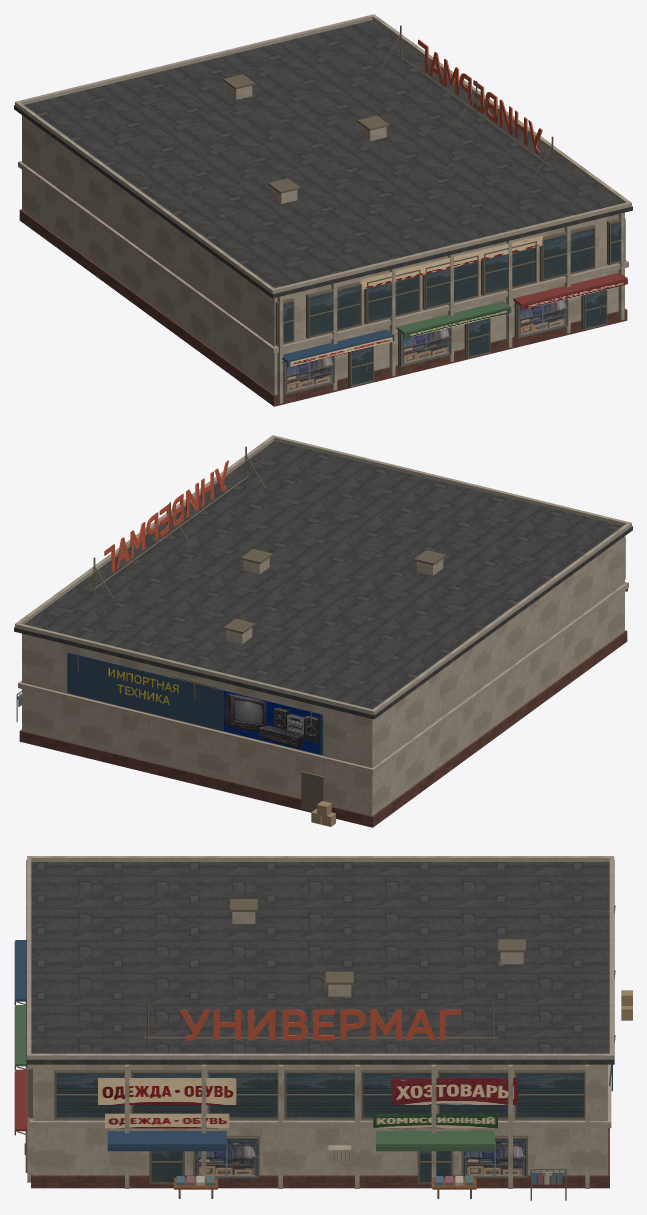
Rendered from department_store_1997.glb.
The picture shows the model from 3 angles, top to bottom: view 1: azimuth 30°, elevation 25°; view 2: azimuth 150°, elevation 25°; view 3: azimuth 270°, elevation 25°; orthographic projection. The views are drawn at different scales.
Parts seen in each view (by area): view 1: department_store_1997; view 2: department_store_1997; view 3: department_store_1997.
Part boxes in pixels (x1,y1,x2,y2): department_store_1997: (14,14,632,406); department_store_1997: (14,435,632,827); department_store_1997: (14,856,632,1200).
Bounding box in the file's own units: 26.38 × 9.95 × 32.29.
16 materials, 5 textured.
